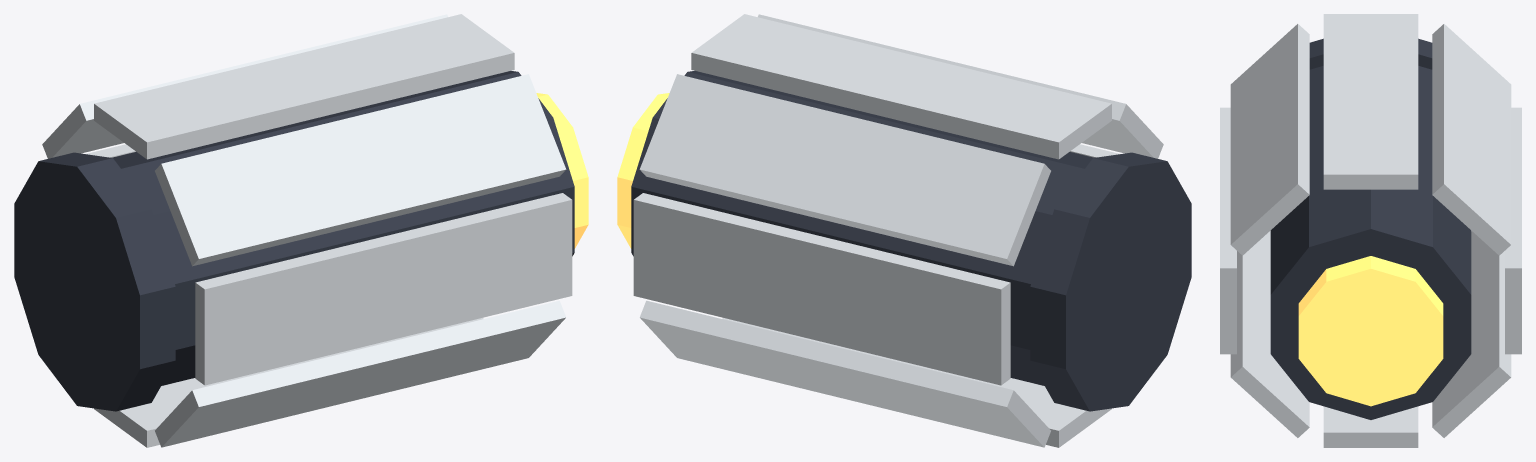
Rendered from Piece1.fbx.
3 views of the same model, side by side, from view 1: azimuth 30°, elevation 25°; view 2: azimuth 150°, elevation 25°; view 3: azimuth 270°, elevation 25° (orthographic). The views are drawn at different scales.
Visible parts, largest first — view 1: SM_Piece1_MAT_HullWhite, SM_Piece1_MAT_HullDark, SM_Piece1_MAT_GlowOrange; view 2: SM_Piece1_MAT_HullWhite, SM_Piece1_MAT_HullDark, SM_Piece1_MAT_GlowOrange; view 3: SM_Piece1_MAT_HullWhite, SM_Piece1_MAT_HullDark, SM_Piece1_MAT_GlowOrange.
Boxes of the visible parts, <box> form: SM_Piece1_MAT_HullWhite: <box>42,14,572,447</box>; SM_Piece1_MAT_HullDark: <box>14,71,574,411</box>; SM_Piece1_MAT_GlowOrange: <box>536,93,588,248</box>; SM_Piece1_MAT_HullWhite: <box>633,14,1163,447</box>; SM_Piece1_MAT_HullDark: <box>631,71,1191,411</box>; SM_Piece1_MAT_GlowOrange: <box>617,93,669,248</box>; SM_Piece1_MAT_HullWhite: <box>1220,14,1521,447</box>; SM_Piece1_MAT_HullDark: <box>1270,38,1471,419</box>; SM_Piece1_MAT_GlowOrange: <box>1298,256,1443,406</box>.
Size of the model in its own units: 1.29 by 0.8008 by 0.8008.
